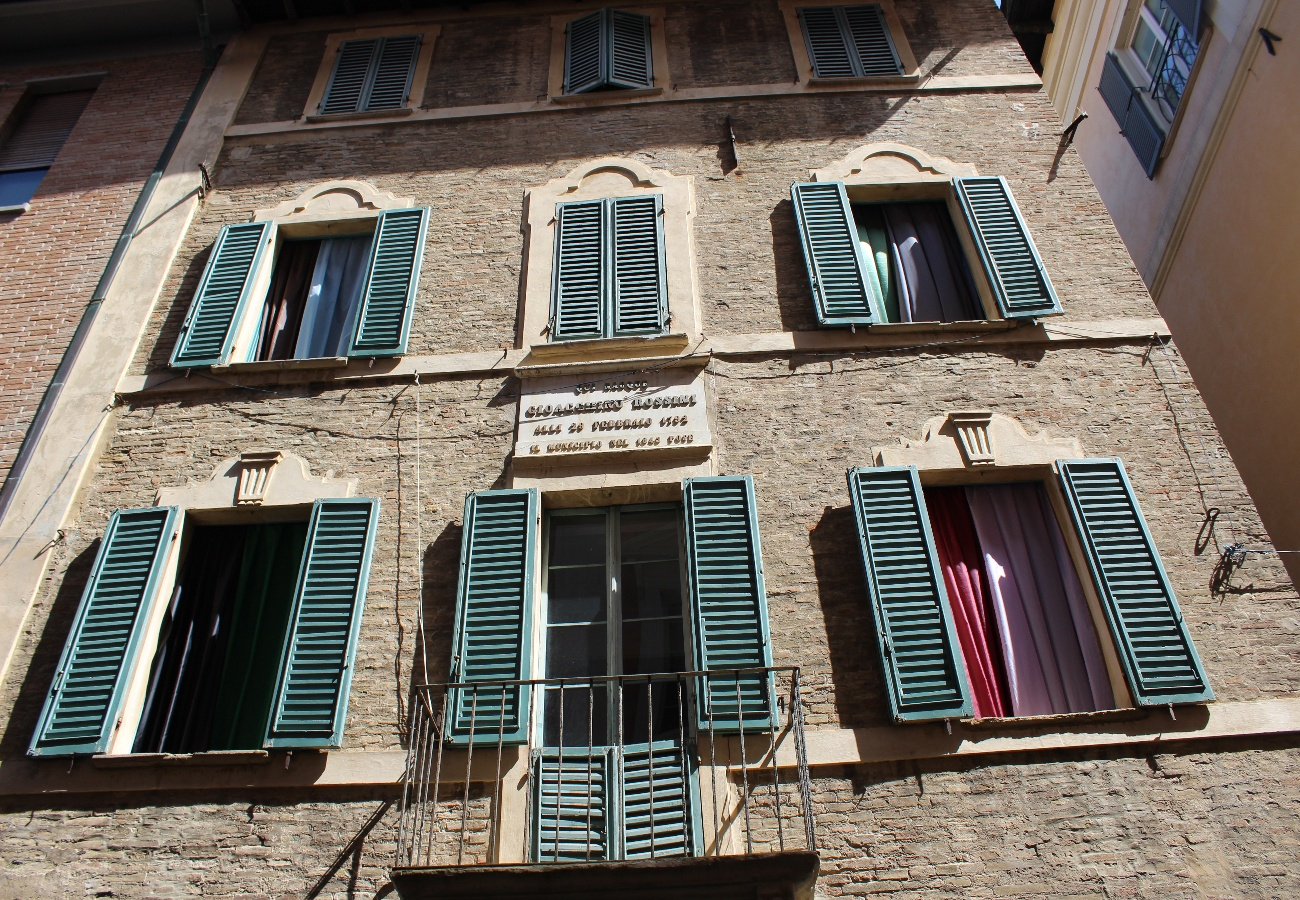Casa Rossini: (94, 1, 1162, 900)
